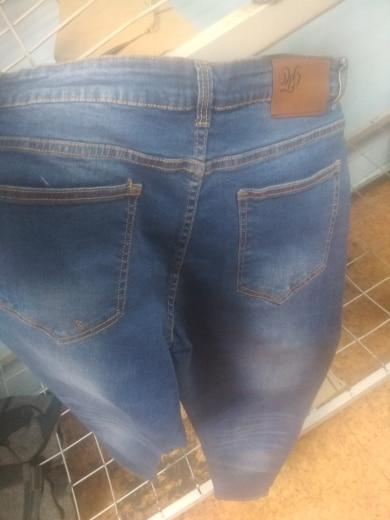jeans: (16, 58, 355, 495)
